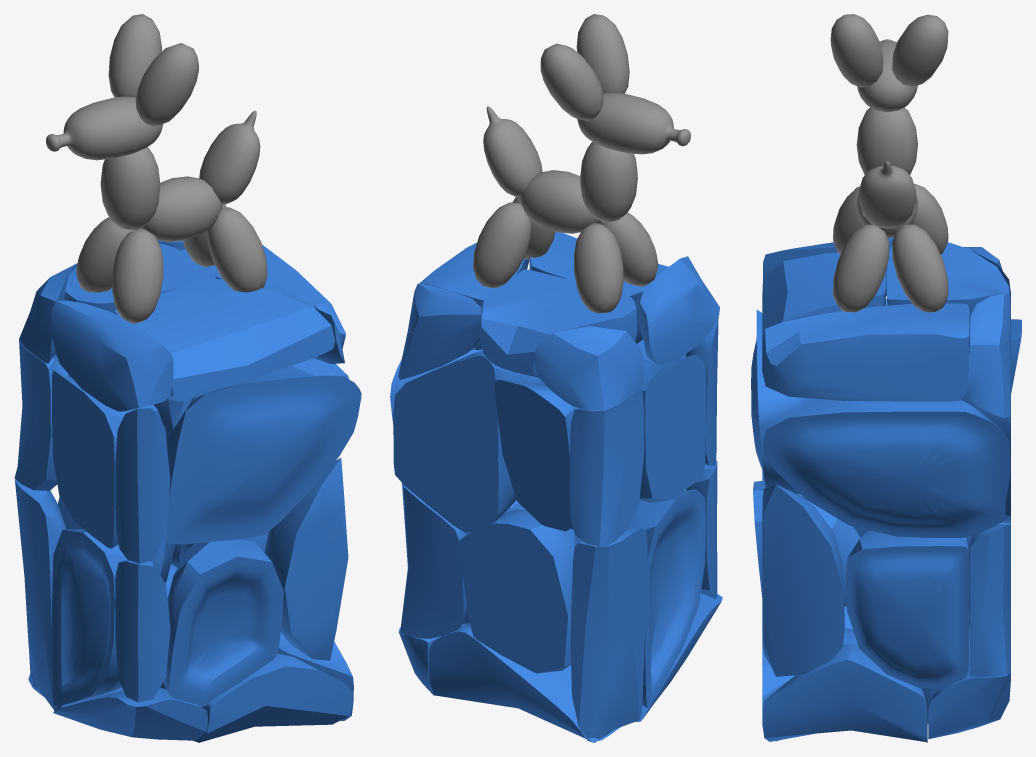
Rendered from kopek.fbx.
3 renders of one model, left to right at view 1: azimuth 30°, elevation 25°; view 2: azimuth 150°, elevation 25°; view 3: azimuth 270°, elevation 25°, orthographic. The views are drawn at different scales.
Visible parts, largest first — view 1: tas, kopek; view 2: tas, kopek; view 3: tas, kopek.
Boxes of the visible parts, x1,y1,x2,y2 form: tas: [14, 240, 361, 742]; kopek: [46, 14, 267, 323]; tas: [390, 231, 722, 742]; kopek: [473, 14, 690, 313]; tas: [751, 237, 1021, 742]; kopek: [830, 14, 948, 312].
Bounding box in the file's own units: 87.41 × 222 × 80.93.
